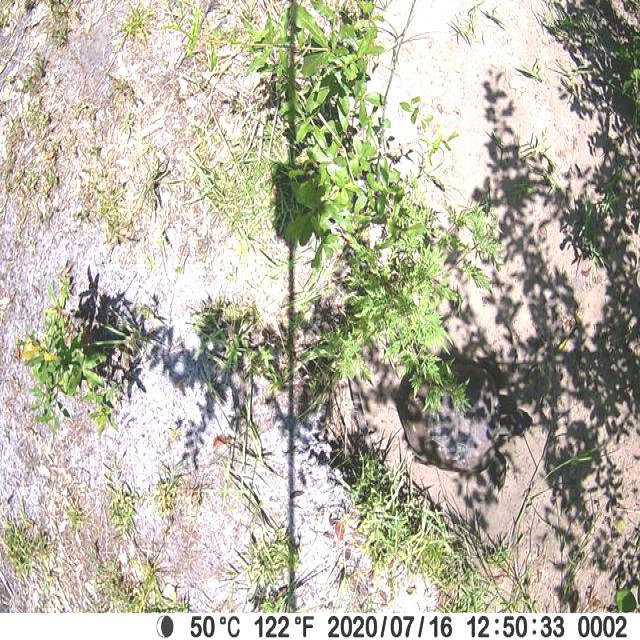tortoise: (394, 354, 532, 490)
